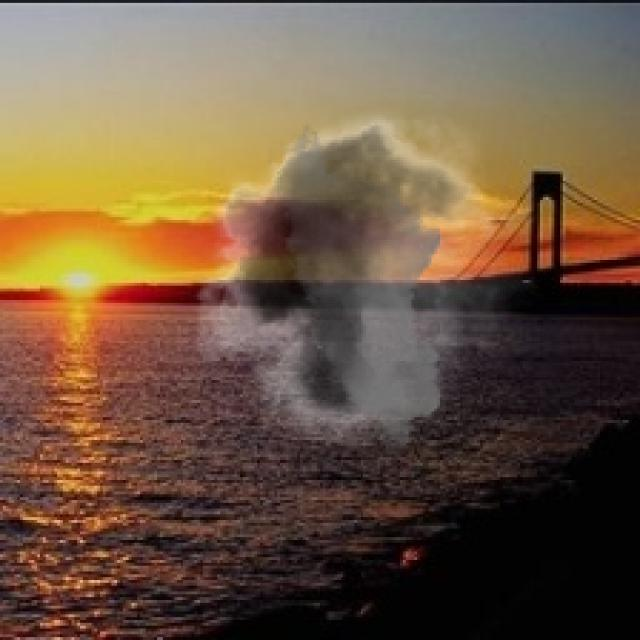smoke: (177, 94, 537, 452)
